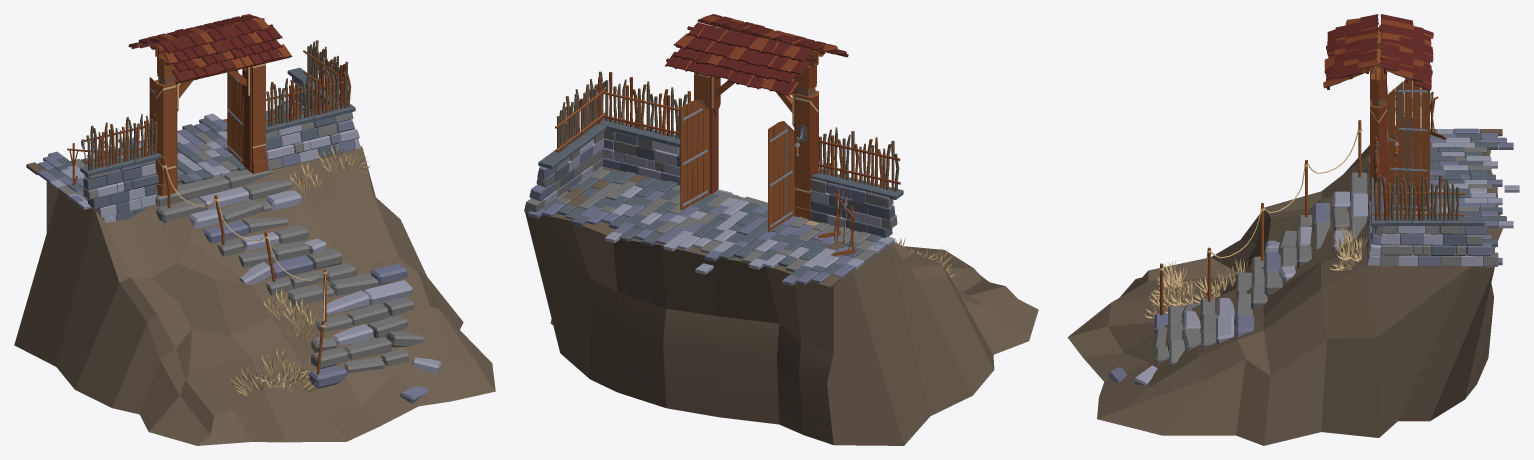
Rendered from gate scene.fbx.
3 renders of one model, left to right at view 1: azimuth 30°, elevation 25°; view 2: azimuth 150°, elevation 25°; view 3: azimuth 270°, elevation 25°, orthographic. The views are drawn at different scales.
Parts seen in each view (by area): view 1: Mountain, Lestnitsa, Stone_wall, polySurface38, Zabor_up, Cherepitsa, Floor_stones1, pPlane27, pPlane28, Zaborchik, Verevka; view 2: Mountain, Floor_stones1, Stone_wall, polySurface38, Zabor_up, Cherepitsa, Kopja; view 3: Mountain, Lestnitsa, polySurface38, Floor_stones1, Stone_wall, Cherepitsa, Zabor_up, Zaborchik, pPlane28, pPlane27, Verevka.
Part boxes in pixels (x1,y1,x2,y2): Mountain: (14, 108, 495, 445); Lestnitsa: (155, 169, 441, 403); Stone_wall: (80, 67, 360, 222); polySurface38: (149, 26, 267, 196); Zabor_up: (83, 40, 351, 170); Cherepitsa: (128, 14, 291, 84); Floor_stones1: (26, 100, 299, 209); pPlane27: (263, 288, 317, 341); pPlane28: (289, 144, 369, 193); Zaborchik: (161, 157, 326, 374); Verevka: (162, 164, 327, 327); Mountain: (525, 167, 1038, 445); Floor_stones1: (527, 166, 894, 289); Stone_wall: (524, 117, 903, 237); polySurface38: (680, 22, 823, 232); Zabor_up: (555, 71, 900, 191); Cherepitsa: (665, 14, 848, 96); Kopja: (817, 187, 855, 256); Mountain: (1067, 141, 1502, 445); Lestnitsa: (1108, 167, 1369, 384); polySurface38: (1340, 16, 1429, 216); Floor_stones1: (1390, 128, 1519, 265); Stone_wall: (1367, 177, 1498, 266); Cherepitsa: (1323, 14, 1433, 90); Zabor_up: (1372, 137, 1464, 221); Zaborchik: (1160, 120, 1361, 315); pPlane28: (1329, 224, 1366, 270); pPlane27: (1191, 256, 1248, 303); Verevka: (1159, 129, 1362, 283).
Size of the model in its own units: 561 by 447 by 592.
